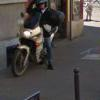Motorcycle: (9, 7, 53, 78)
